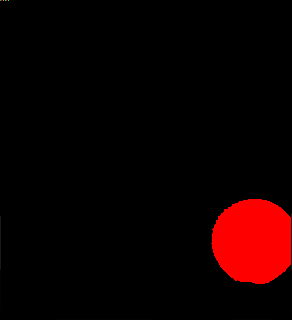stamp: (211, 197, 292, 283)
